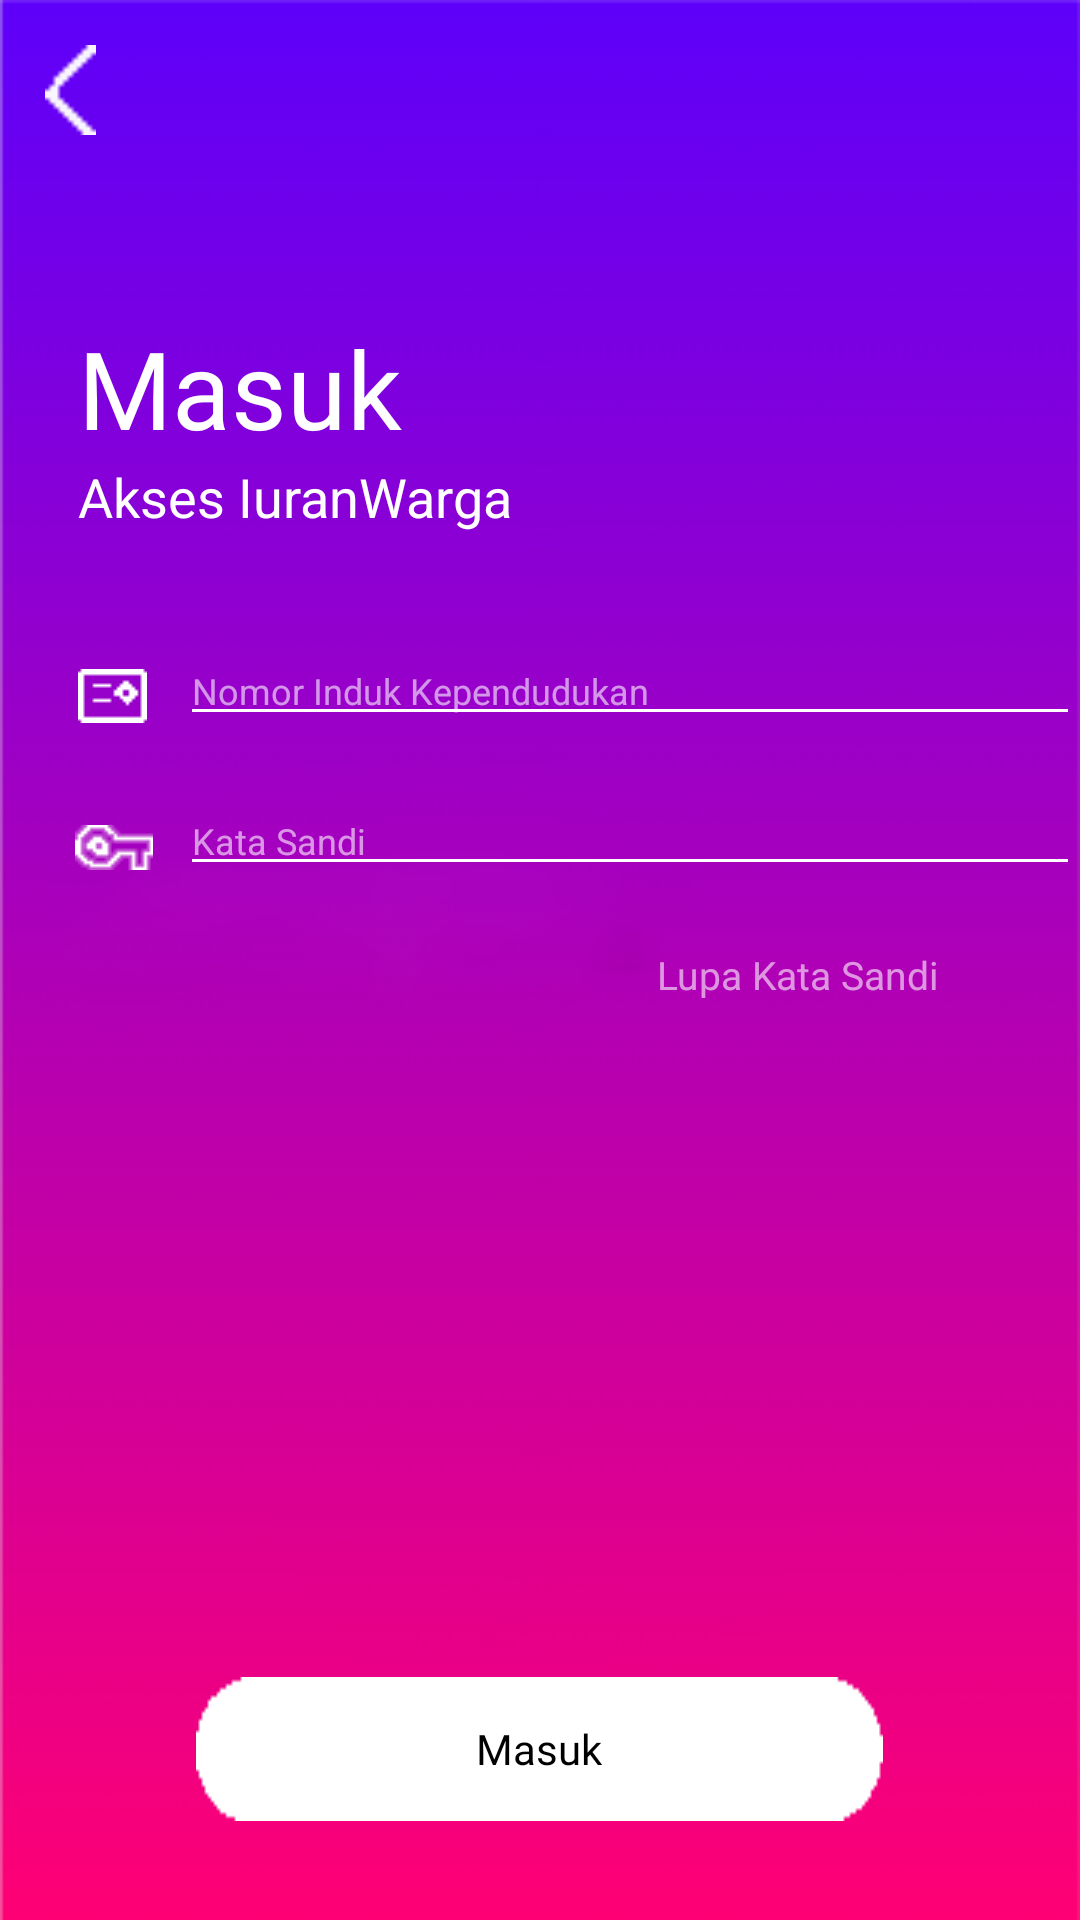

Screen size 1080 × 1920. Icon name, then its center in pixels as (x=x, y=y):
backicon: (x=70, y=90)
passwordicon: (x=114, y=847)
usernameicon: (x=112, y=696)
